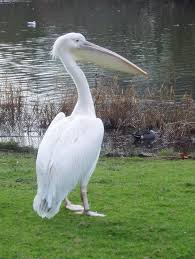pelican: (35, 33, 149, 217)
